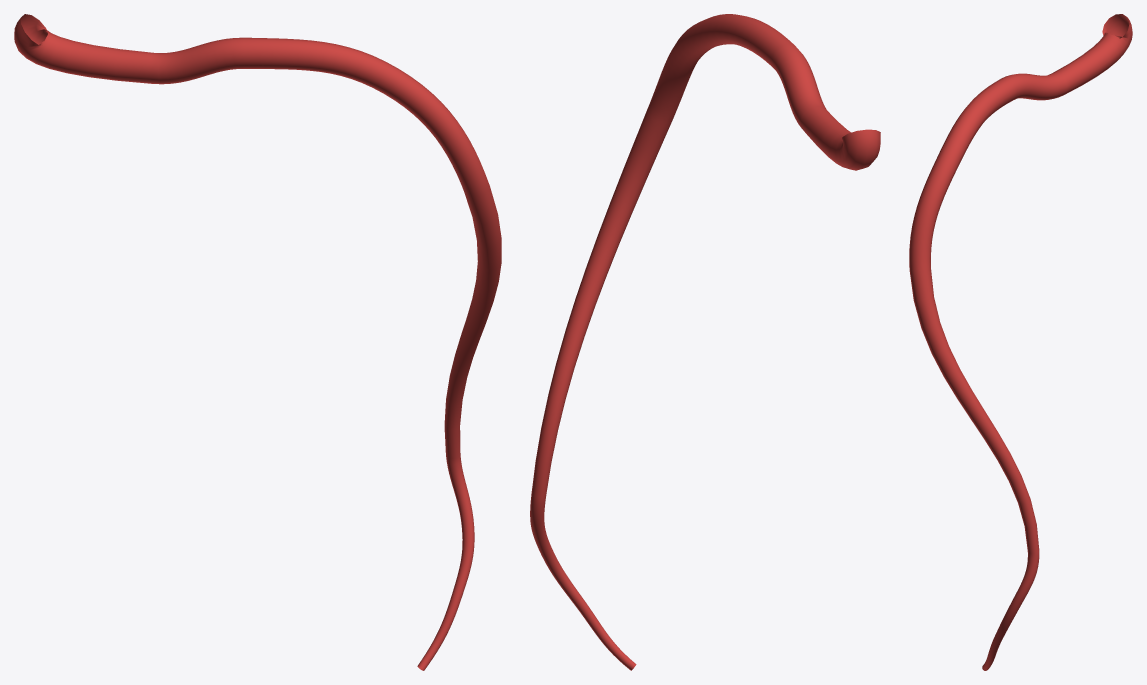
The picture shows the model from 3 angles, left to right: view 1: azimuth 30°, elevation 25°; view 2: azimuth 150°, elevation 25°; view 3: azimuth 270°, elevation 25°; orthographic projection. The views are drawn at different scales.
Visible parts, largest first — view 1: 左侧膝下外侧动脉; view 2: 左侧膝下外侧动脉; view 3: 左侧膝下外侧动脉.
Part boxes in pixels (<box>): 左侧膝下外侧动脉: <box>14,14,501,670</box>; 左侧膝下外侧动脉: <box>530,14,880,670</box>; 左侧膝下外侧动脉: <box>909,14,1132,670</box>.
Bounding box in the file's own units: 0.0645 × 0.1044 × 0.0396.
